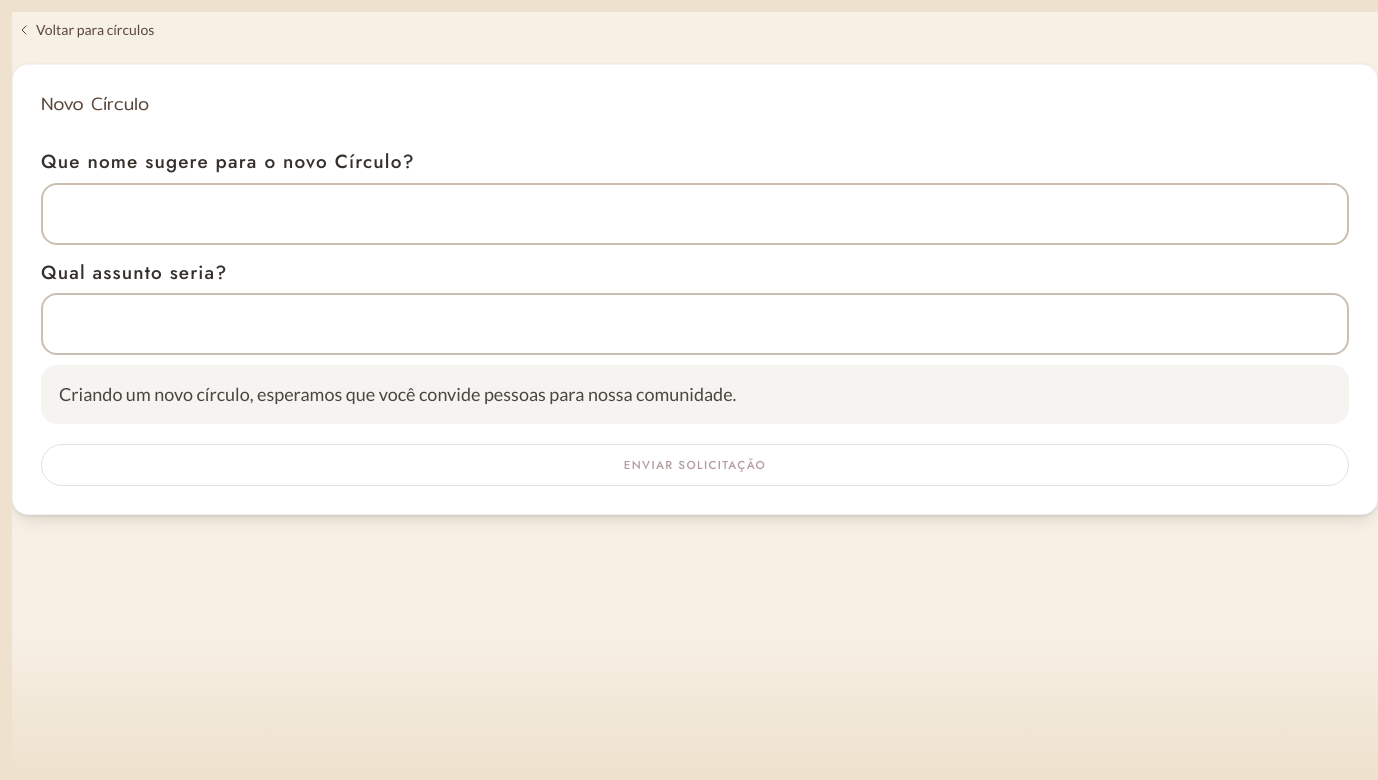
Test: CircleRequestForm › mostra confirmação após enviar, sem afirmar que o Círculo foi criado
The width and height of the screenshot is (1378, 780).
Type "Mães de primeira viagem" into the field labelled "Que nome sugere para o novo Círculo?" at [695, 214], box x1=41 y1=182 x2=1349 y2=244
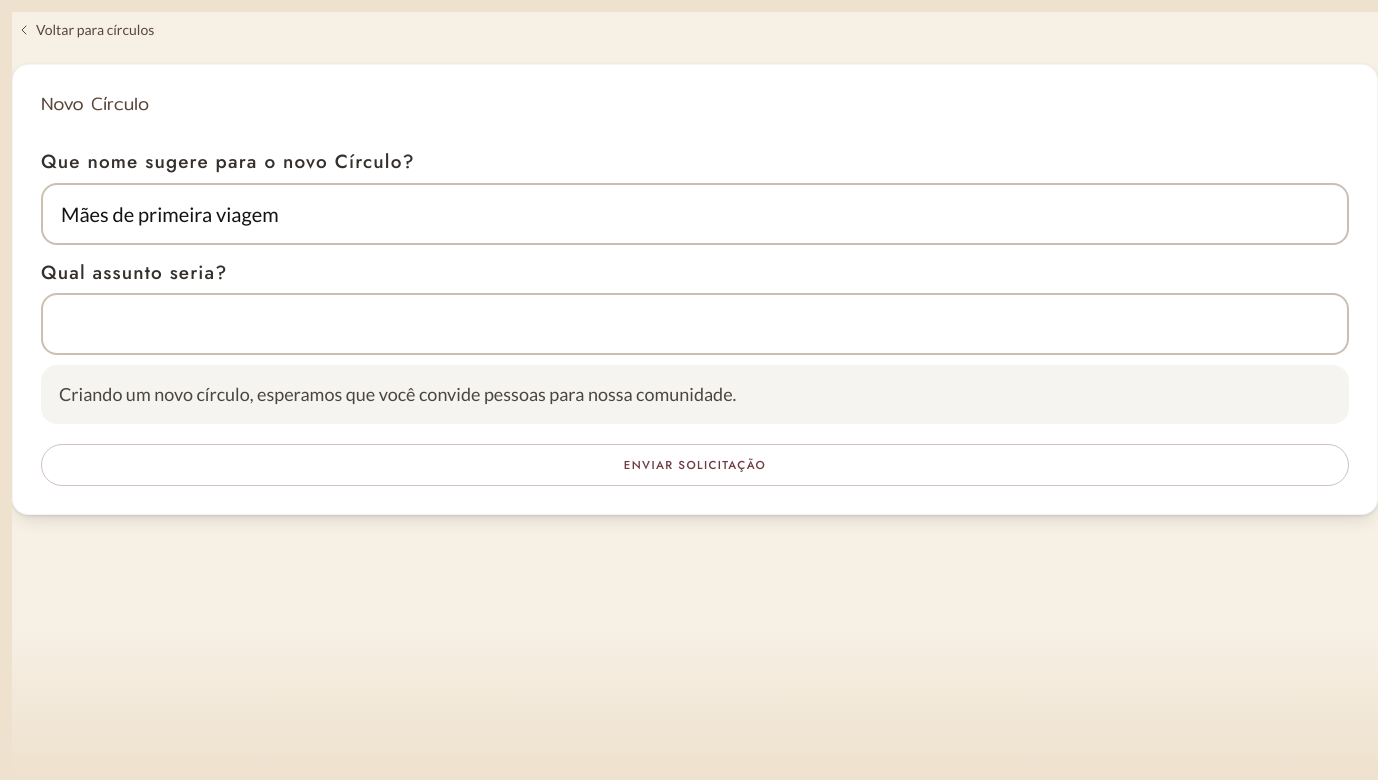
Click the button "Enviar solicitação" at [695, 465], box x1=41 y1=444 x2=1349 y2=486
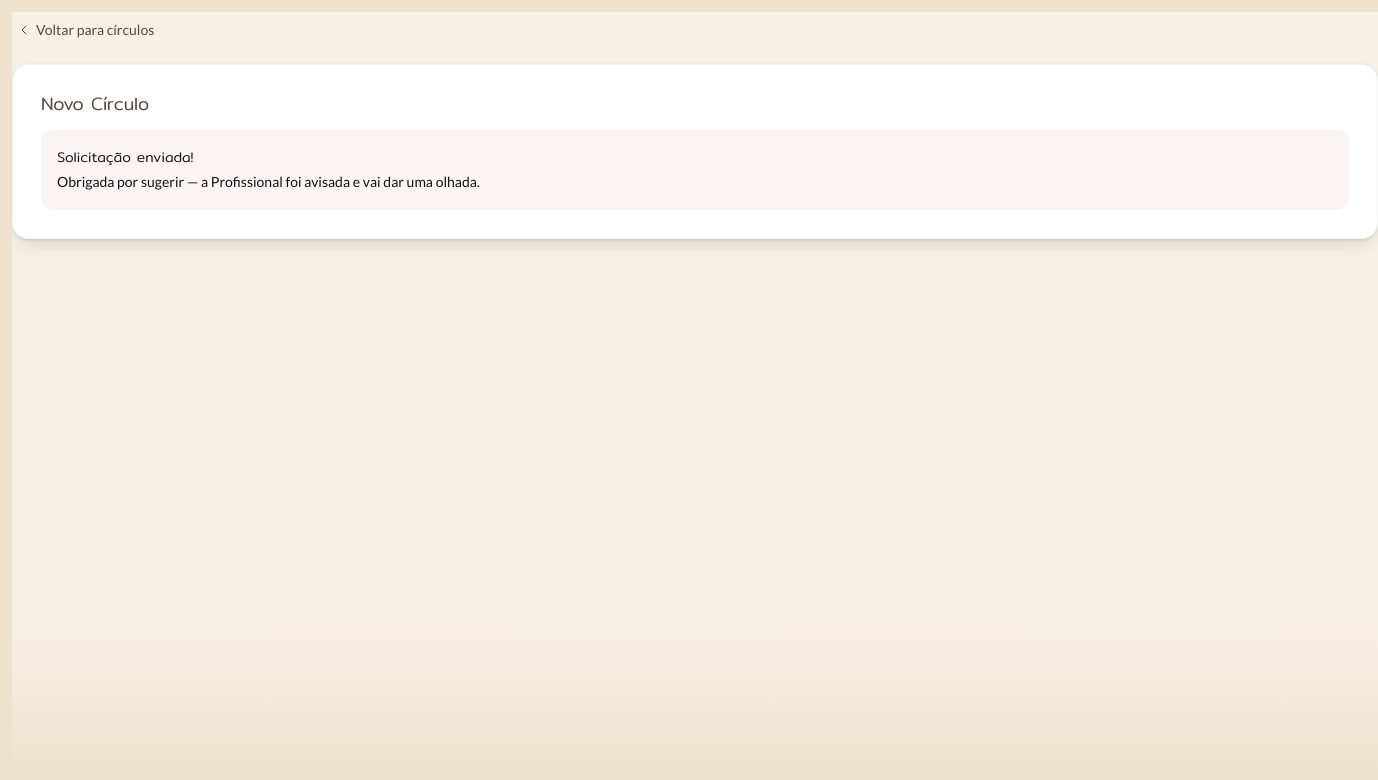
Check: the text "Solicitação enviada!" is shown, box x1=57 y1=146 x2=193 y2=168
Check: the label labelled "Que nome sugere" is gone
